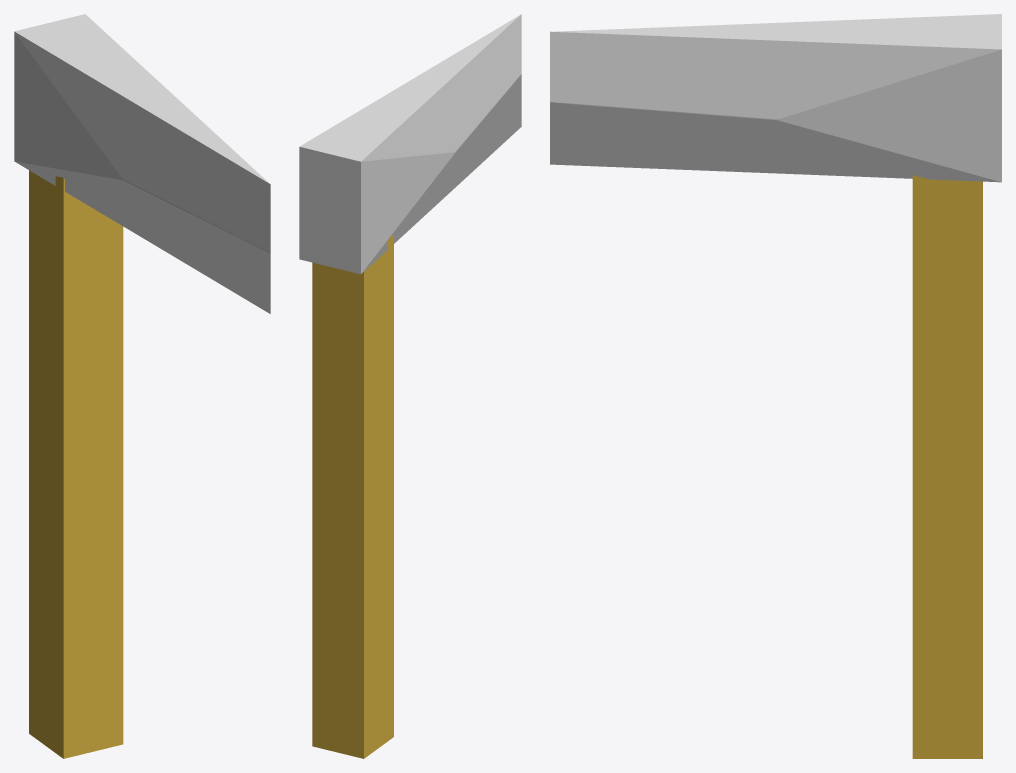
Rendered from Axe.fbx.
3 views of the same model, side by side, from view 1: azimuth 30°, elevation 25°; view 2: azimuth 150°, elevation 25°; view 3: azimuth 270°, elevation 25° (orthographic). The views are drawn at different scales.
Visible parts, largest first — view 1: AxeHandle, AxeHead; view 2: AxeHandle, AxeHead; view 3: AxeHead, AxeHandle.
Part boxes in pixels (x1,y1,x2,y2): AxeHandle: [29, 170, 123, 758]; AxeHead: [14, 14, 270, 313]; AxeHandle: [312, 233, 393, 758]; AxeHead: [299, 14, 521, 274]; AxeHead: [550, 14, 1001, 182]; AxeHandle: [912, 175, 982, 758].
Size of the model in its own units: 238 by 1282 by 2230.
